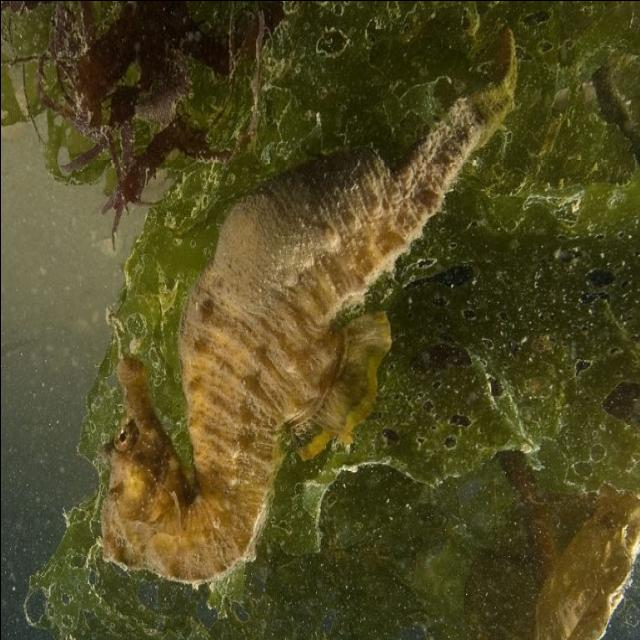Hippo: (94, 348, 188, 584)
